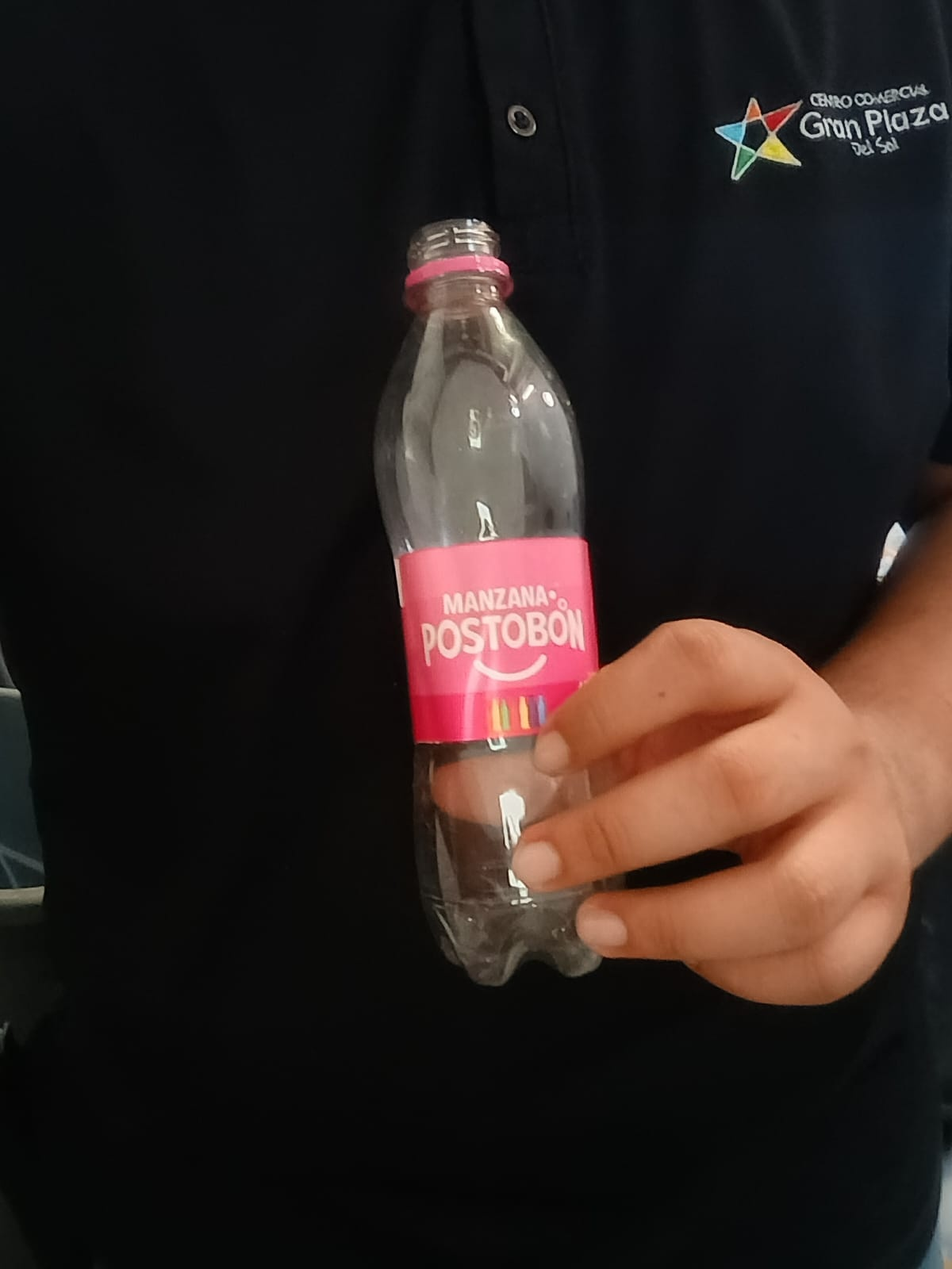Plastico: (370, 214, 604, 984)
